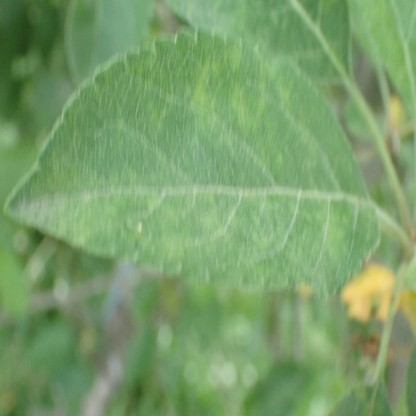powdery_mildew: (13, 197, 68, 223)
scab: (316, 206, 348, 255), (191, 54, 218, 105), (229, 85, 251, 128), (196, 195, 218, 230), (254, 43, 276, 76), (145, 105, 166, 135), (160, 235, 184, 259), (226, 43, 243, 74), (257, 77, 268, 120), (253, 227, 274, 249), (275, 84, 290, 112), (161, 203, 176, 221), (275, 152, 283, 170)
